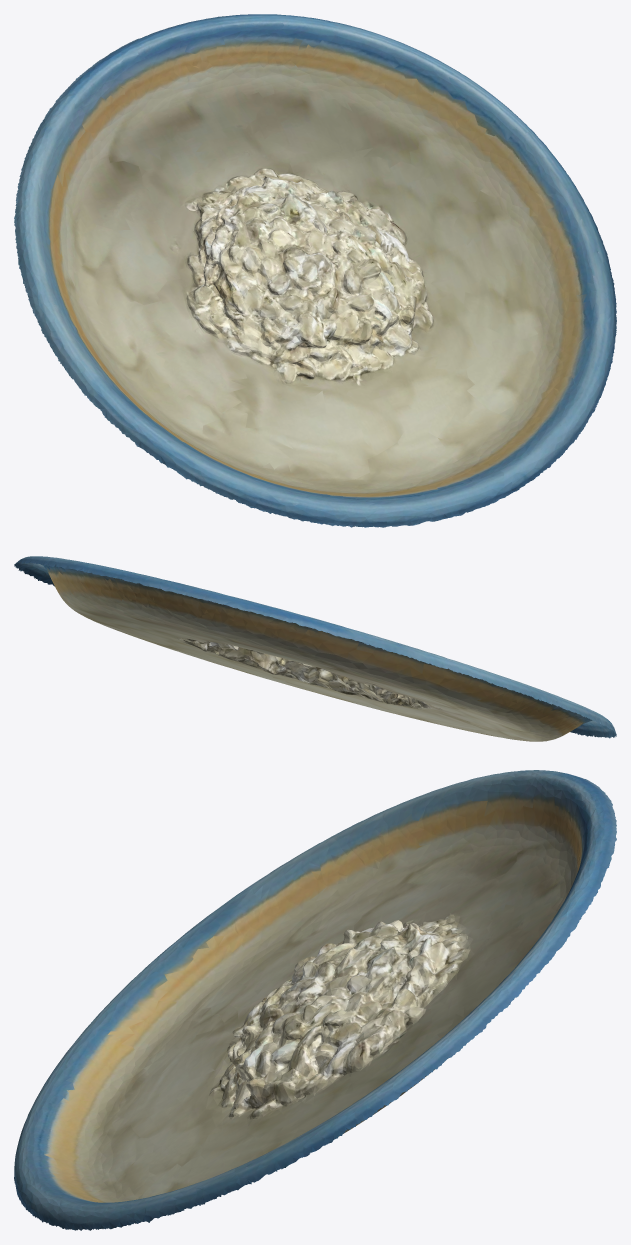
File: Haferflocken.fbx
3 views of the same model, one above another, from view 1: azimuth 30°, elevation 25°; view 2: azimuth 150°, elevation 25°; view 3: azimuth 270°, elevation 25° (orthographic). The views are drawn at different scales.
Parts seen in each view (by area): view 1: Haferflocken_tex_high; view 2: Haferflocken_tex_high; view 3: Haferflocken_tex_high.
Boxes of the visible parts, <box> form: Haferflocken_tex_high: <box>14,14,616,527</box>; Haferflocken_tex_high: <box>14,556,616,741</box>; Haferflocken_tex_high: <box>14,770,616,1230</box>.
Bounding box in the file's own units: 19.83 × 10.74 × 16.76.
